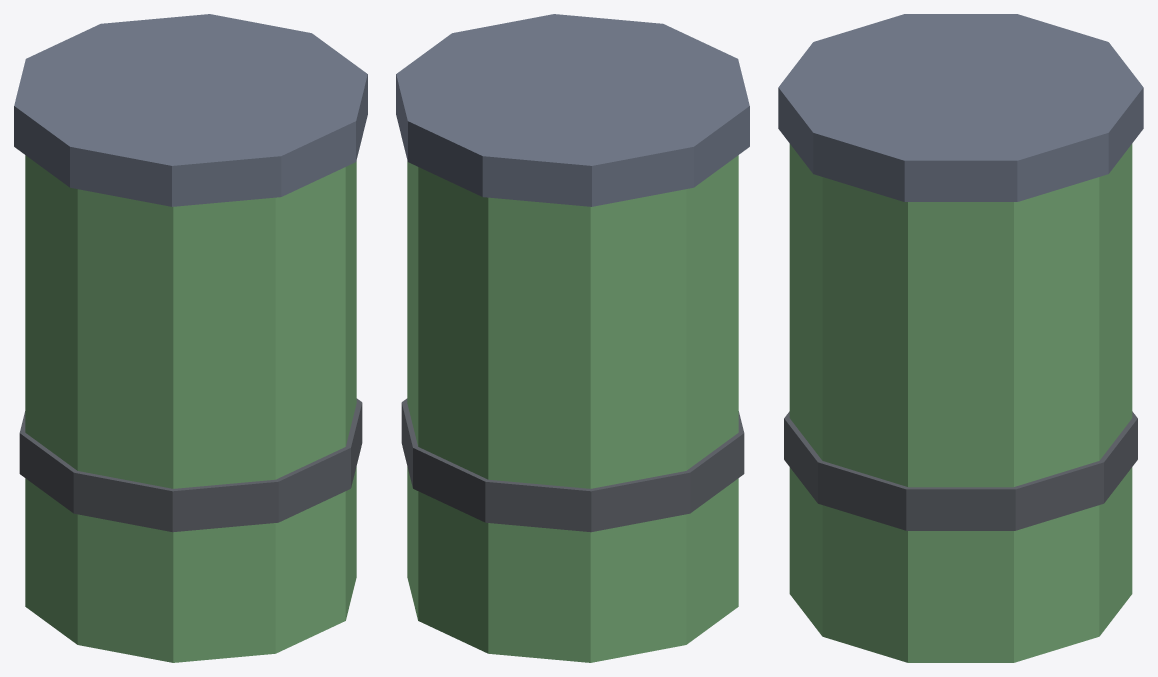
Rendered from trash_bin.glb.
The picture shows the model from 3 angles, left to right: view 1: azimuth 30°, elevation 25°; view 2: azimuth 150°, elevation 25°; view 3: azimuth 270°, elevation 25°; orthographic projection.
Visible parts, largest first — view 1: trash_bin_body; view 2: trash_bin_body; view 3: trash_bin_body.
Boxes of the visible parts, box(x1,y1,x2,y2) form: trash_bin_body: box(14, 14, 367, 662); trash_bin_body: box(396, 14, 749, 662); trash_bin_body: box(778, 14, 1143, 662).
Bounding box in the file's own units: 0.0609 × 0.098 × 0.064.
